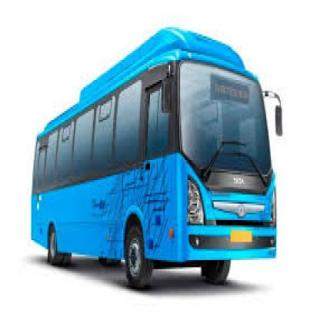Normal_vehicle: (27, 16, 291, 299)
